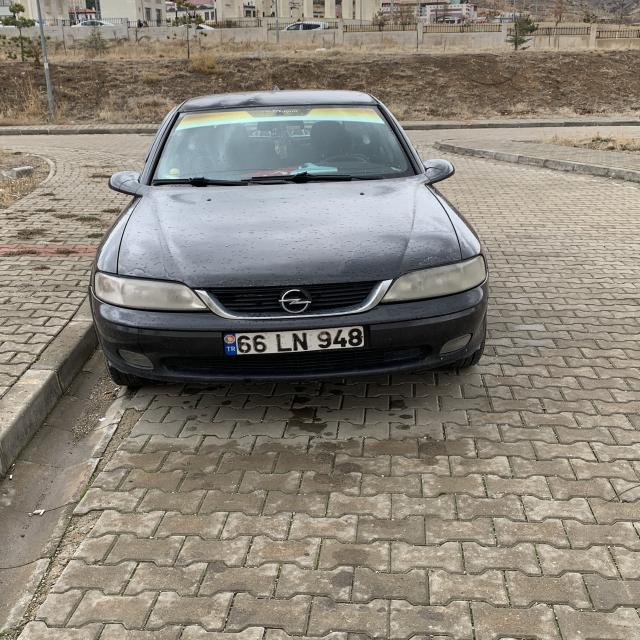license_plate: (224, 326, 365, 353)
